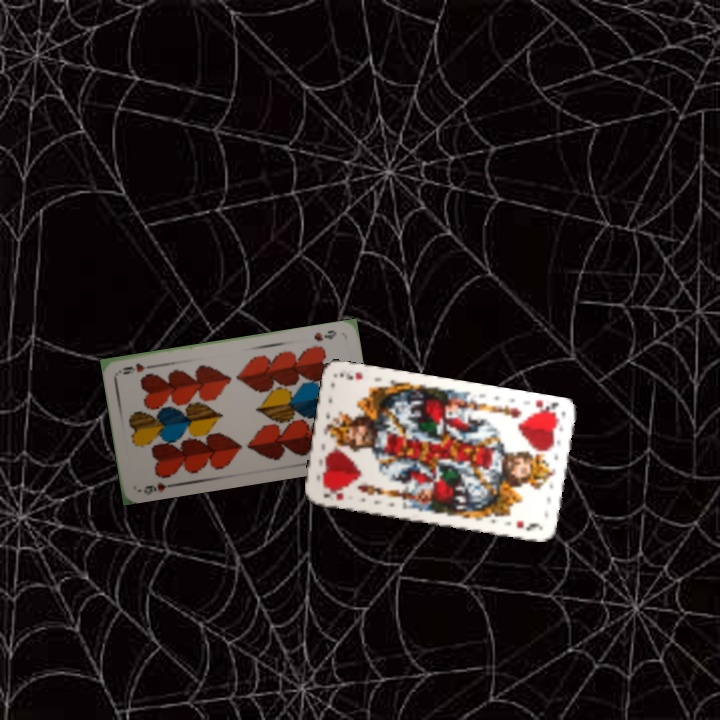H9: (135, 478, 176, 497), (310, 326, 339, 344)
HK: (526, 396, 561, 419), (319, 485, 346, 503)
